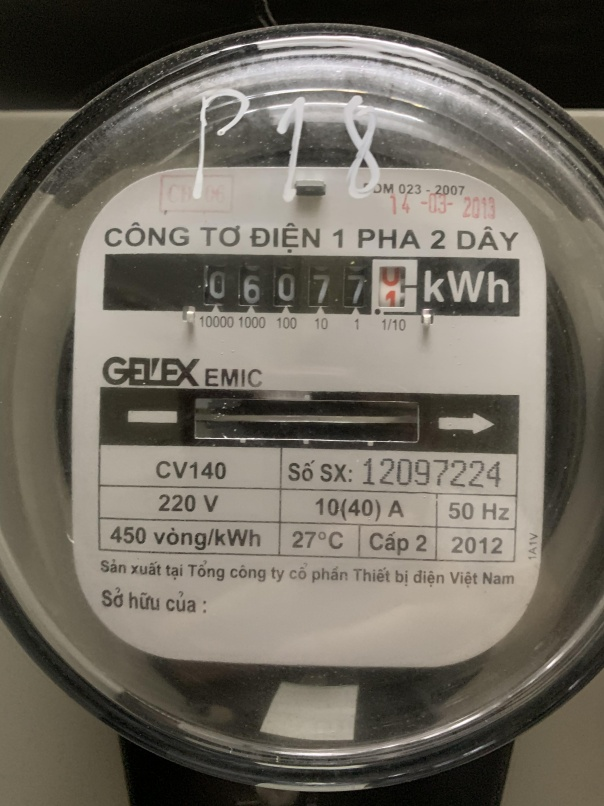counter: (104, 250, 521, 319)
electricity_meter: (1, 27, 604, 788)
